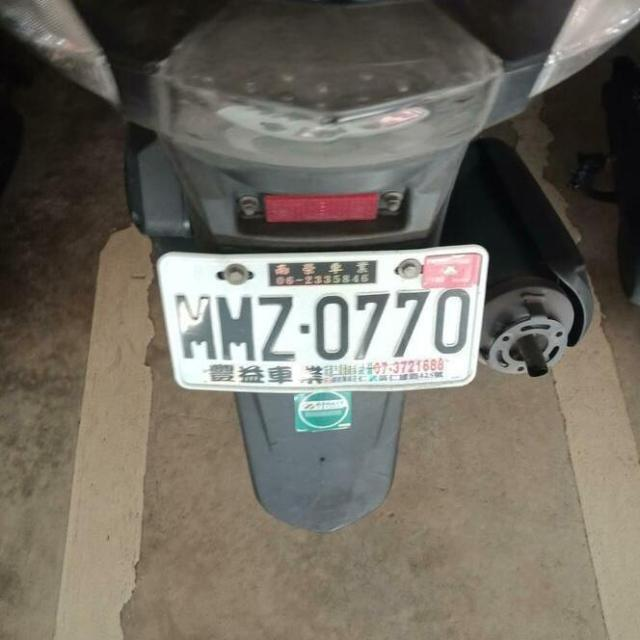W: (150, 235, 493, 407)
